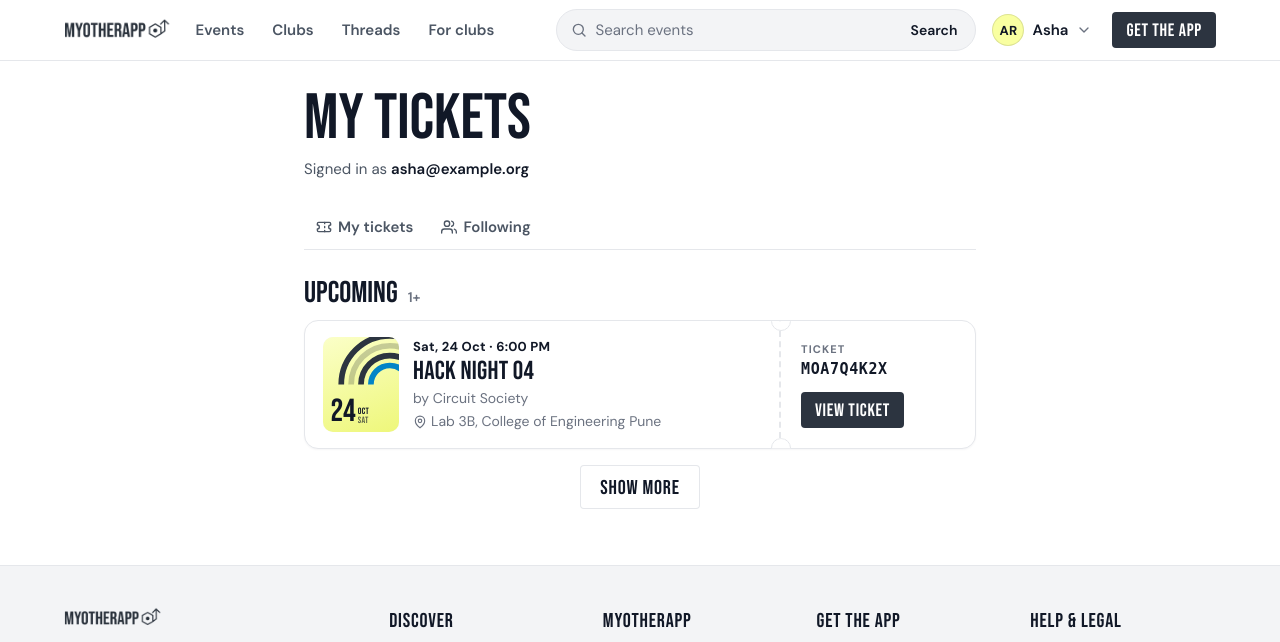
Test: My tickets, signed in › shows more when the API says there is more
Click the button "Show more": [640, 487] box [580, 465, 700, 509]
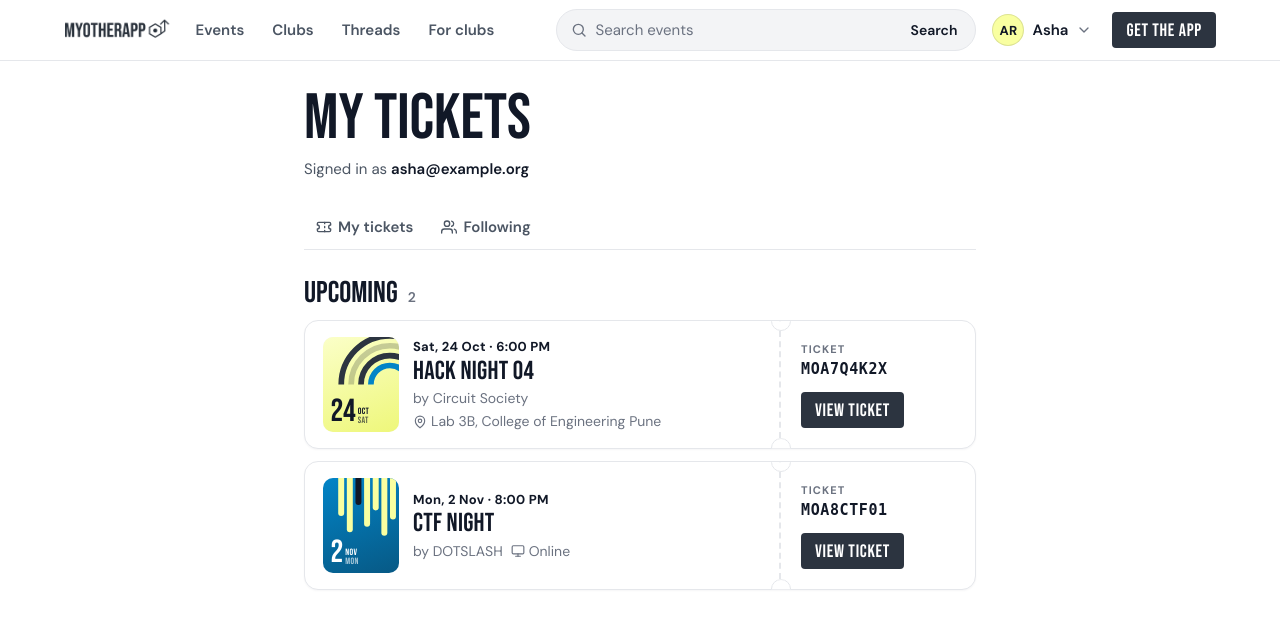
Result: the button "Show more" is gone
